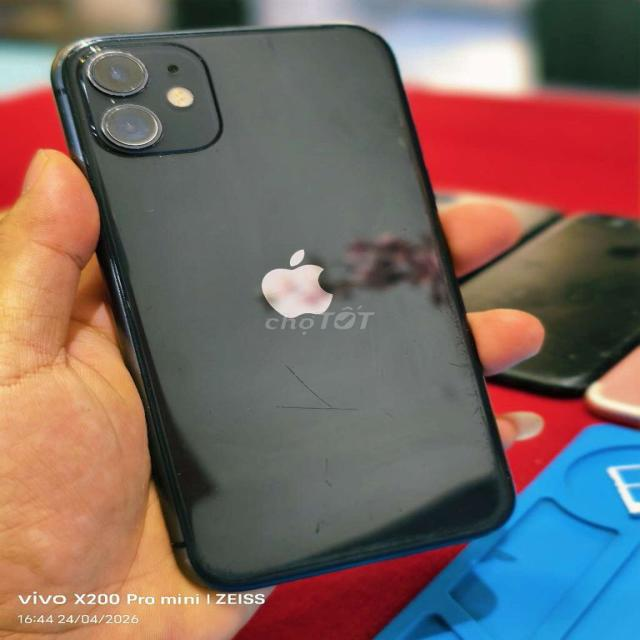gen_11: (60, 8, 528, 591)
scratch: (434, 274, 514, 461), (253, 348, 367, 436), (290, 457, 372, 558), (364, 90, 422, 179), (240, 10, 319, 65), (80, 34, 120, 85)
